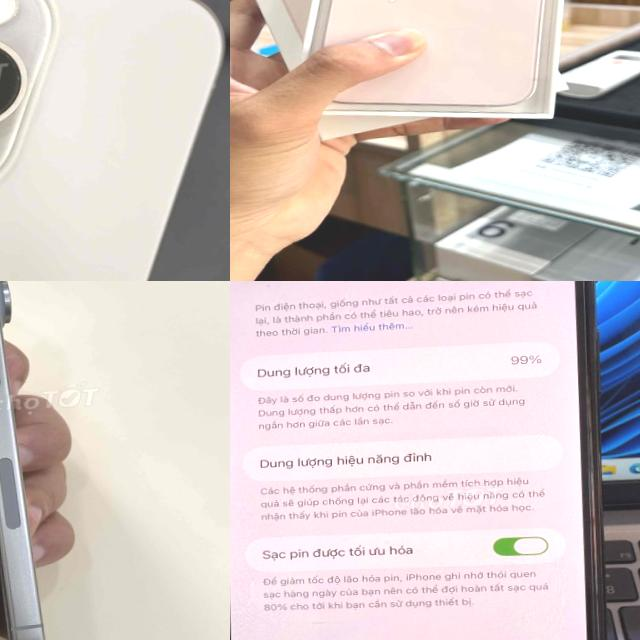gen_11: (230, 281, 621, 640)
gen_12_13: (291, 0, 581, 136)
gen_15: (0, 0, 230, 281), (0, 281, 77, 640)
